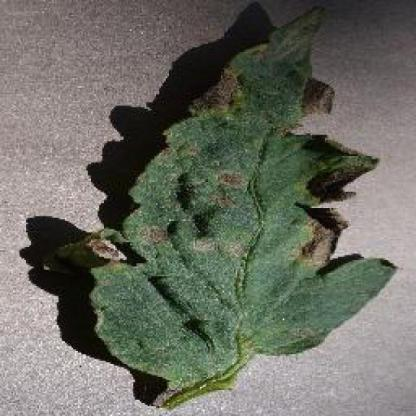Tomato_Blight: (55, 7, 397, 380)
